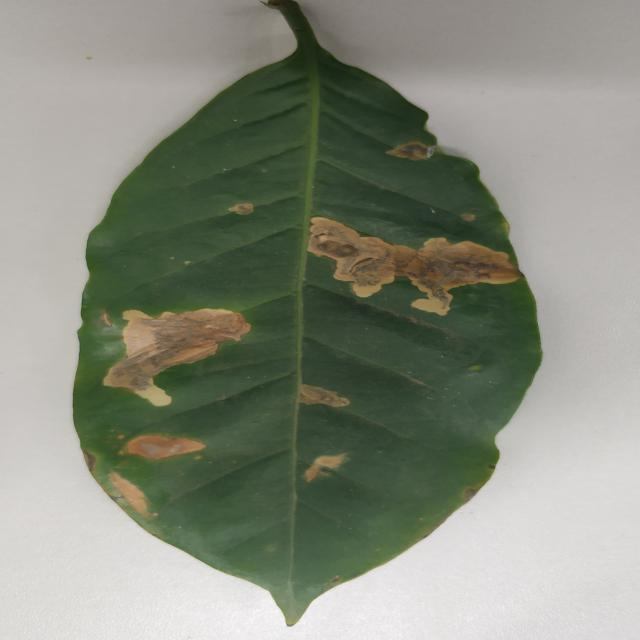Plaga-Minador: (71, 46, 544, 629)
